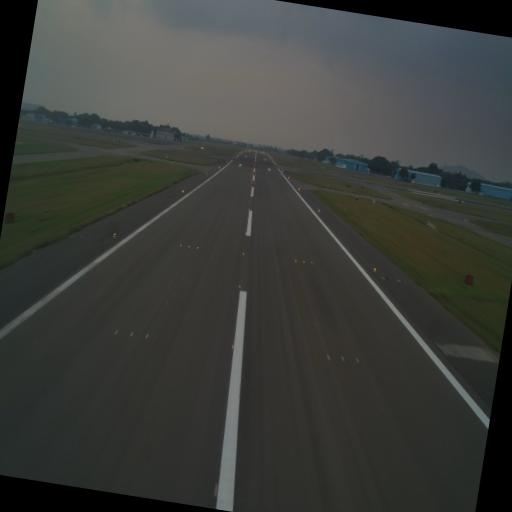on: (324, 351, 332, 362), (340, 352, 346, 364), (142, 330, 149, 340), (352, 354, 359, 364), (128, 329, 134, 338), (112, 328, 118, 336), (111, 230, 117, 238), (372, 264, 378, 272), (230, 341, 234, 351), (294, 256, 298, 263), (302, 258, 306, 264), (309, 260, 313, 265), (179, 242, 182, 248), (186, 244, 190, 248), (195, 244, 198, 249), (242, 250, 244, 257), (238, 283, 240, 288)
